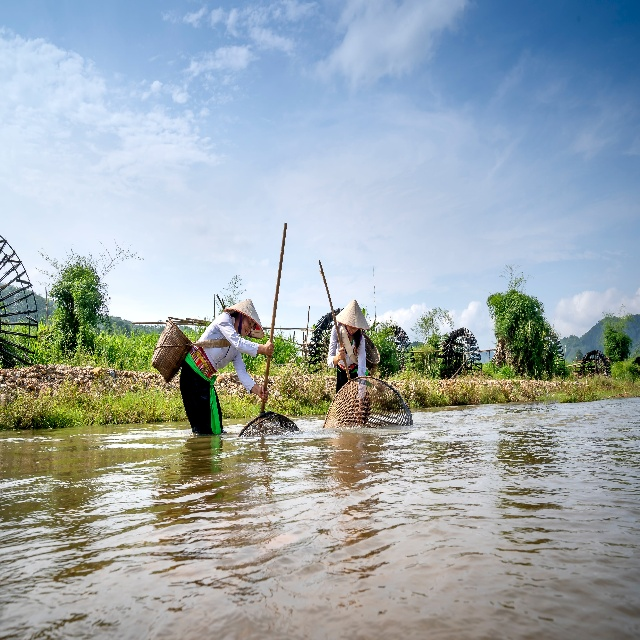Sin_guantes: (258, 384, 269, 403), (264, 339, 274, 357), (339, 343, 346, 360)
